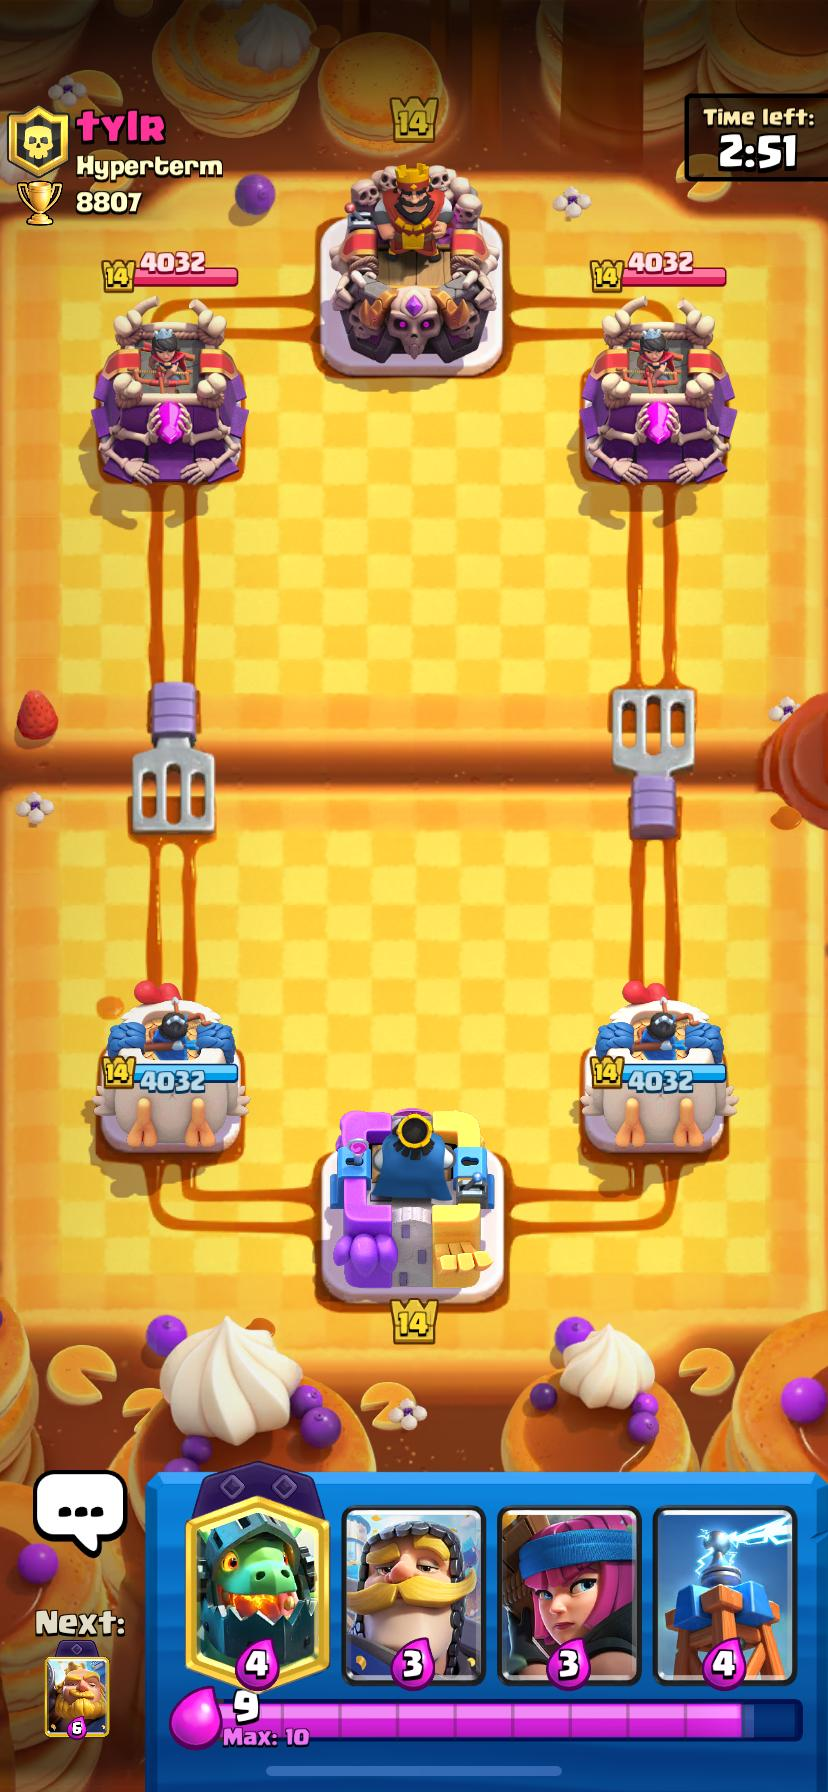EKingTower: (320, 165, 502, 376)
EnemyPrincessTower: (581, 297, 735, 486), (93, 301, 247, 486)
OwnKingTower: (321, 1109, 503, 1303)
OwnPrincessTower: (580, 982, 737, 1154), (93, 983, 248, 1152)
